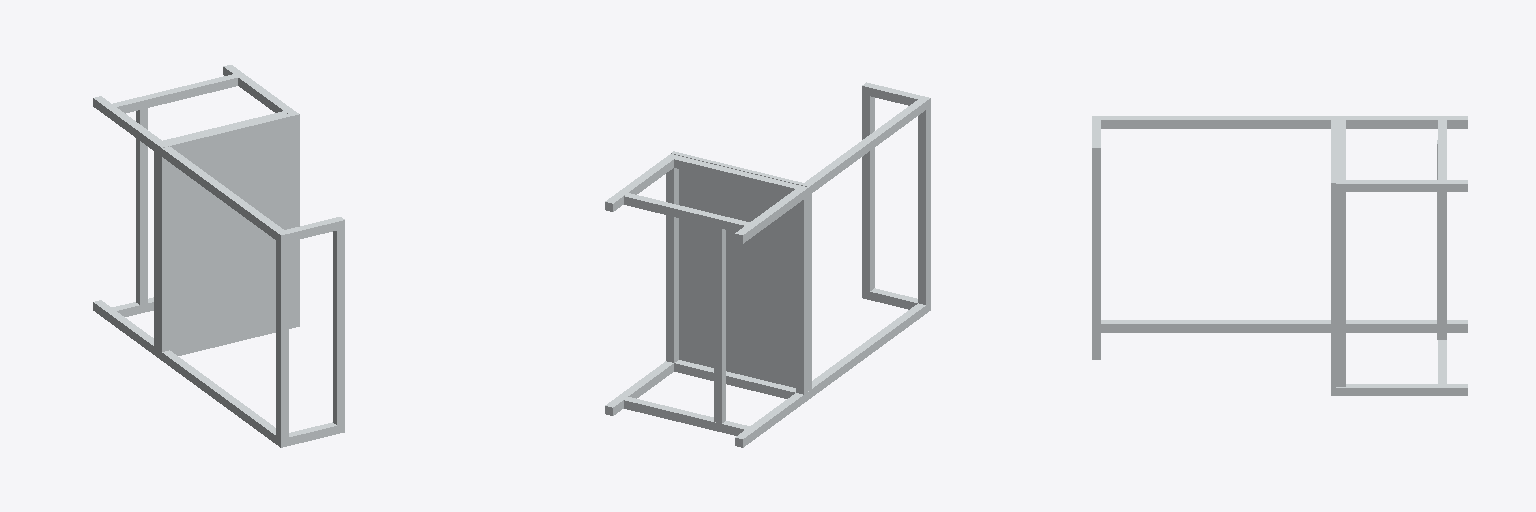
The model's file is Handarbeitsplatz.obj.
3 renders of one model, left to right at view 1: azimuth 30°, elevation 25°; view 2: azimuth 150°, elevation 25°; view 3: azimuth 270°, elevation 25°, orthographic.
Bounding box in the file's own units: 0.851 × 1.25 × 2.